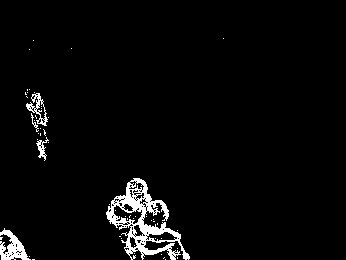person: (125, 201, 191, 260), (108, 177, 150, 242), (24, 89, 50, 161)
